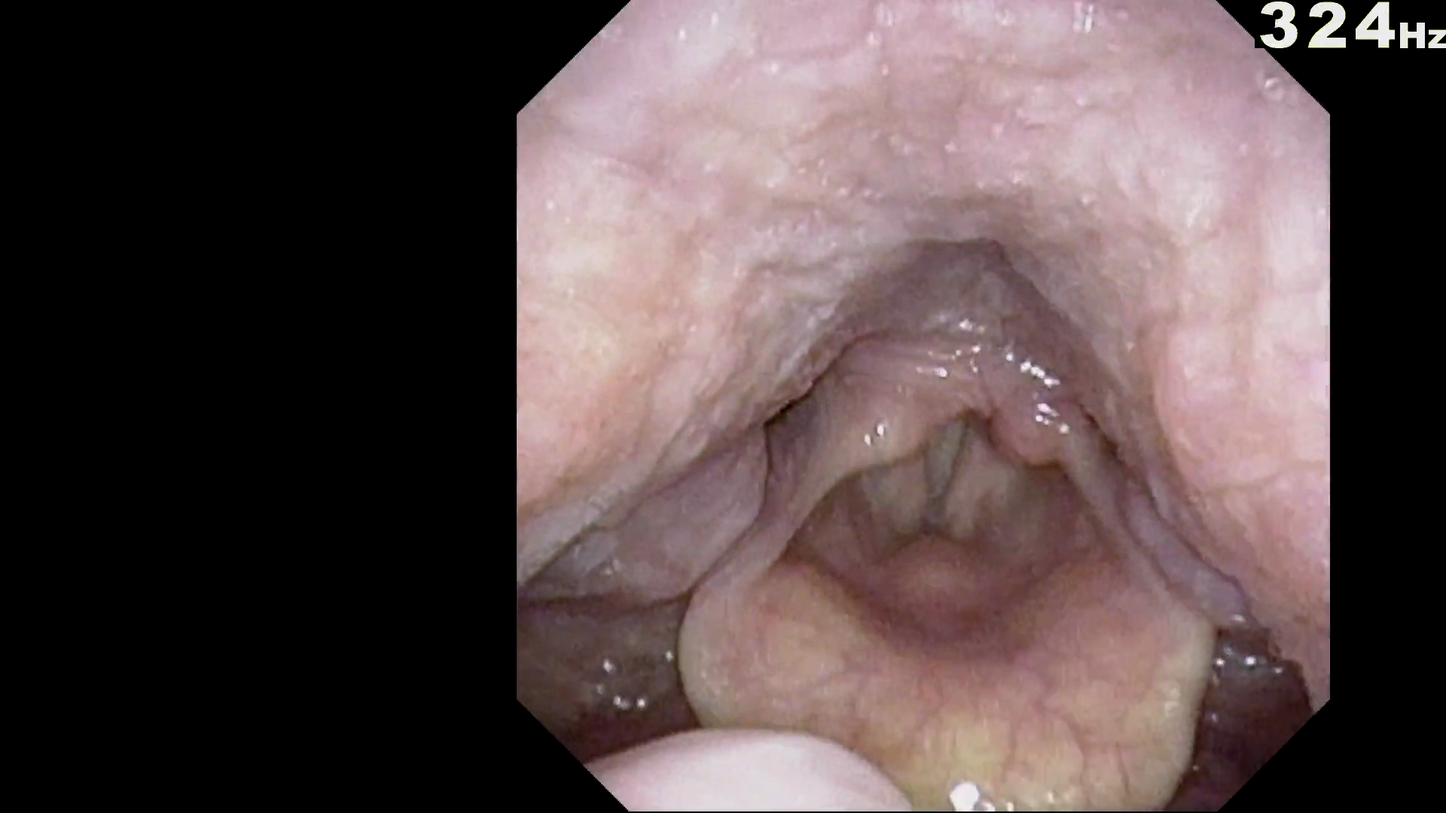epiglottis: (701, 615, 1208, 787)
trachea: (900, 440, 1035, 589)
